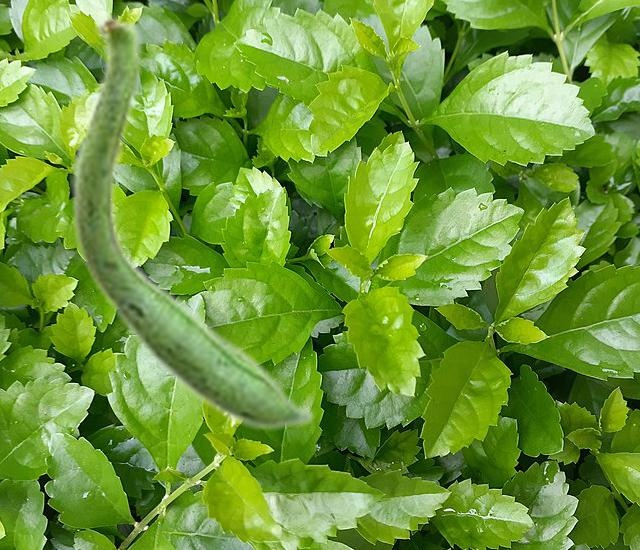french_bean: (70, 10, 315, 431)
